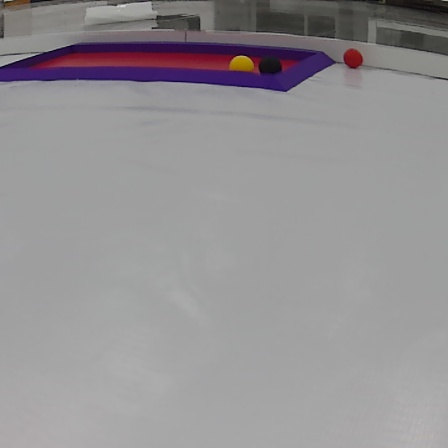black: (260, 56, 281, 75)
red: (344, 46, 362, 68)
red_aim: (0, 38, 339, 96)
yellow: (227, 56, 254, 72)
